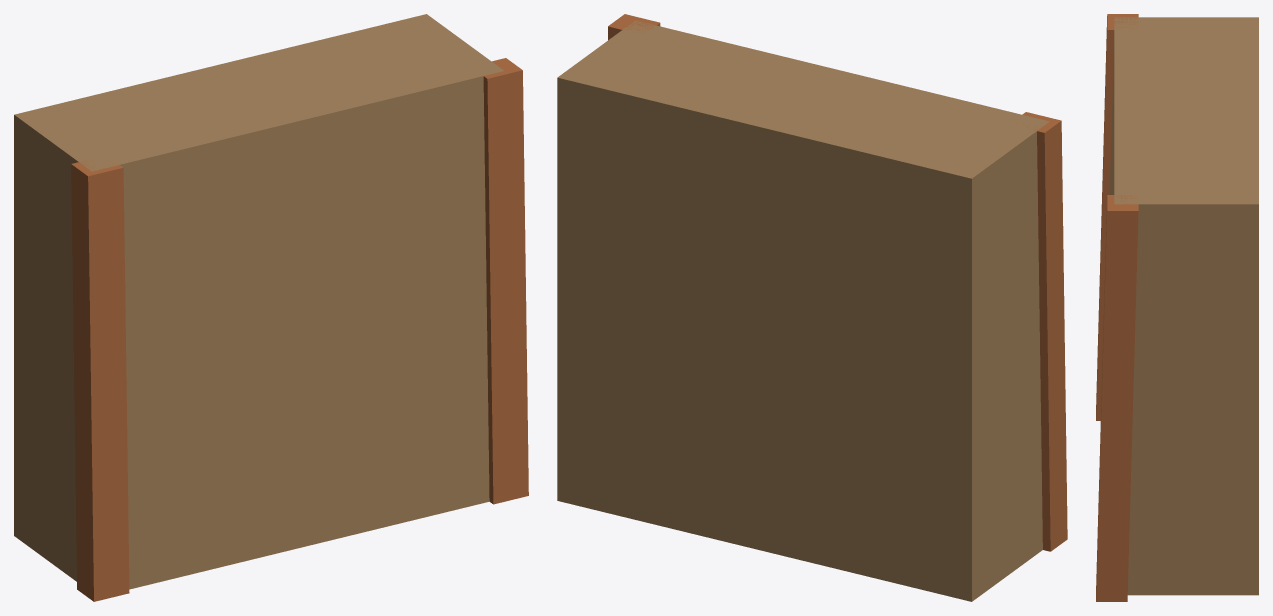
File: model_StoneWall_low.fbx
The picture shows the model from 3 angles, left to right: view 1: azimuth 30°, elevation 25°; view 2: azimuth 150°, elevation 25°; view 3: azimuth 270°, elevation 25°; orthographic projection. The views are drawn at different scales.
Parts seen in each view (by area): view 1: stonewall, stone_edge2, stone_edge1; view 2: stonewall, stone_edge2; view 3: stonewall, stone_edge1, stone_edge2.
Boxes of the visible parts, bbox=[...] form: stonewall: bbox=[14, 14, 503, 589]; stone_edge2: bbox=[71, 160, 129, 601]; stone_edge1: bbox=[483, 58, 528, 504]; stonewall: bbox=[557, 20, 1049, 601]; stone_edge2: bbox=[1016, 112, 1067, 551]; stonewall: bbox=[1109, 17, 1258, 595]; stone_edge1: bbox=[1096, 195, 1138, 601]; stone_edge2: bbox=[1096, 14, 1138, 420].
Size of the model in its own units: 855 by 791 by 298.
